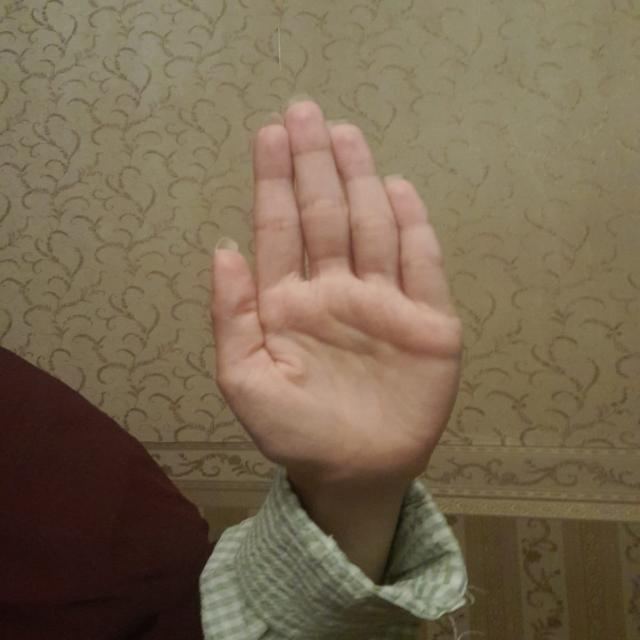Open Hand: (208, 101, 464, 484)
